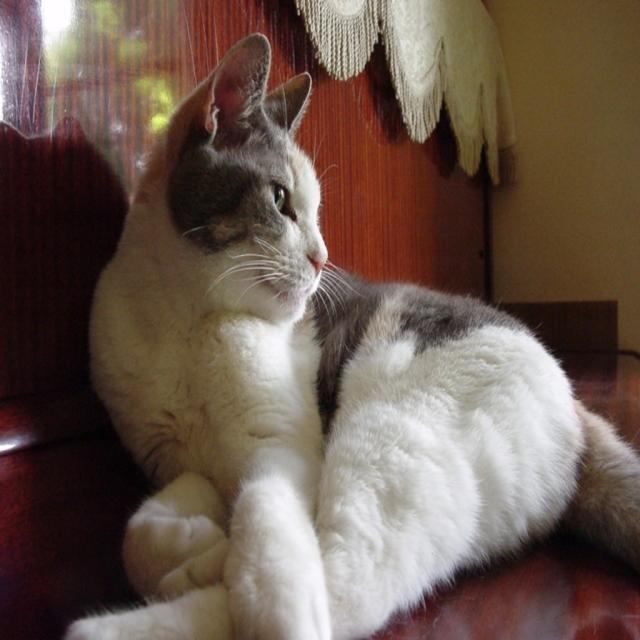Cat: (63, 32, 639, 639)
